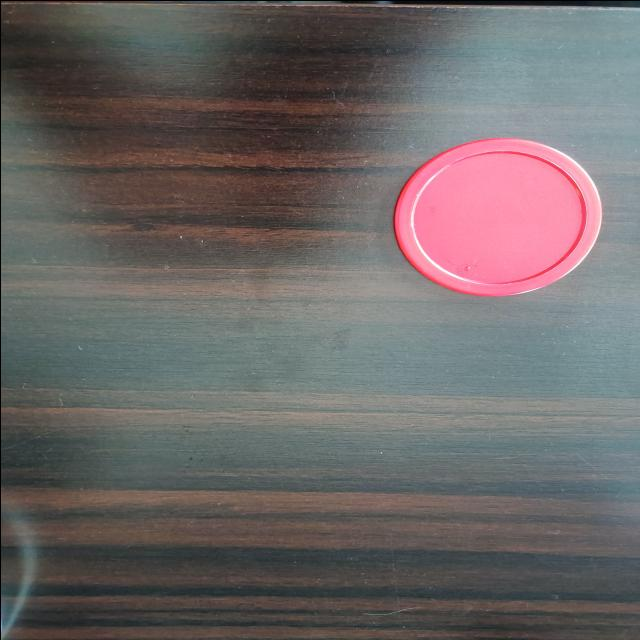chip: (380, 134, 596, 306)
